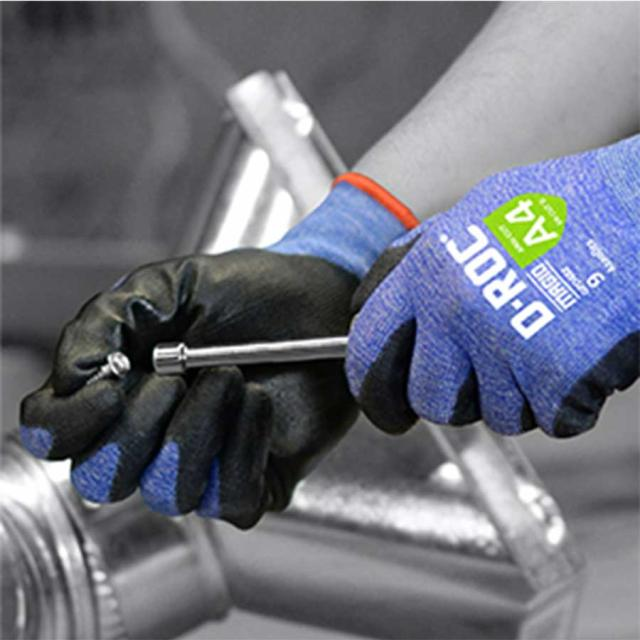gloves: (18, 168, 421, 531), (347, 132, 640, 438)
